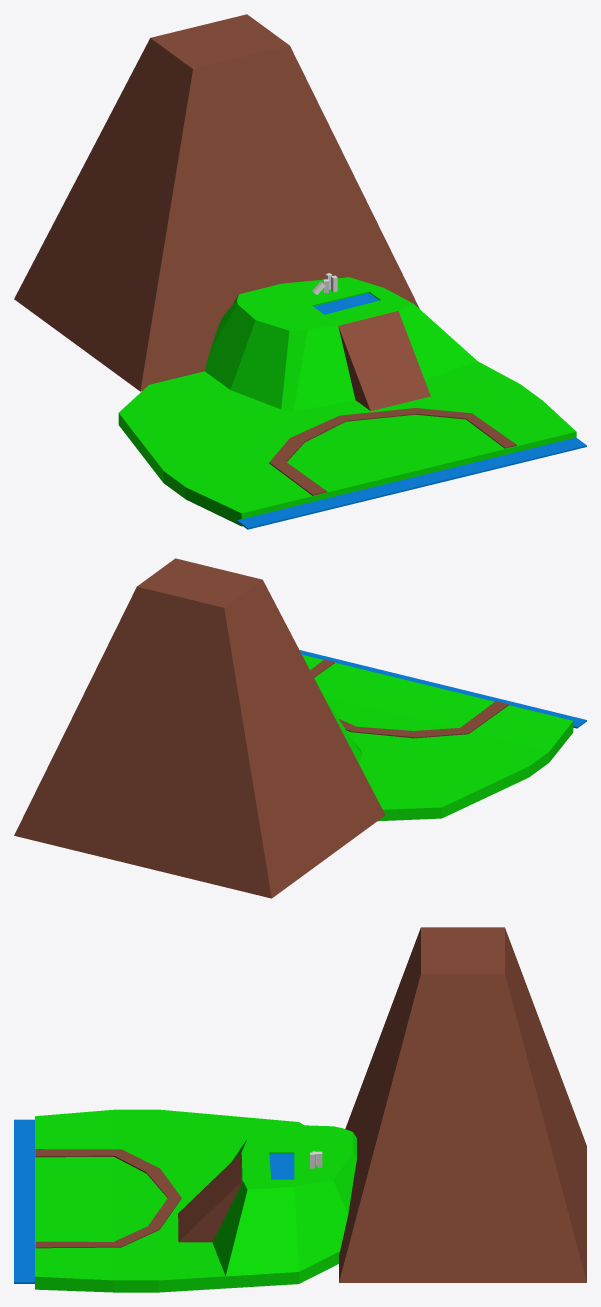
Rendered from ZonaFloresta.fbx.
3 renders of one model, top to bottom at view 1: azimuth 30°, elevation 25°; view 2: azimuth 150°, elevation 25°; view 3: azimuth 270°, elevation 25°, orthographic. The views are drawn at different scales.
Visible parts, largest first — view 1: Cube.323, Cube.315, Cube.318, Cube.316, Cube.317; view 2: Cube.323, Cube.315, Cube.317, Cube.316; view 3: Cube.323, Cube.315, Cube.316, Cube.318, Cube.317.
Boxes of the visible parts, x1=… form: Cube.323: x1=14, y1=14, x2=419, y2=391; Cube.315: x1=118, y1=277, x2=576, y2=526; Cube.318: x1=338, y1=310, x2=430, y2=410; Cube.316: x1=237, y1=437, x2=586, y2=529; Cube.317: x1=269, y1=408, x2=516, y2=495; Cube.323: x1=14, y1=558, x2=385, y2=898; Cube.315: x1=302, y1=654, x2=573, y2=821; Cube.317: x1=310, y1=659, x2=508, y2=738; Cube.316: x1=299, y1=650, x2=586, y2=728; Cube.323: x1=339, y1=927, x2=586, y2=1282; Cube.315: x1=35, y1=1109, x2=356, y2=1292; Cube.316: x1=14, y1=1119, x2=34, y2=1283; Cube.318: x1=178, y1=1153, x2=242, y2=1242; Cube.317: x1=35, y1=1149, x2=181, y2=1248.
Bounding box in the file's own units: 46722 × 34761 × 66226.
